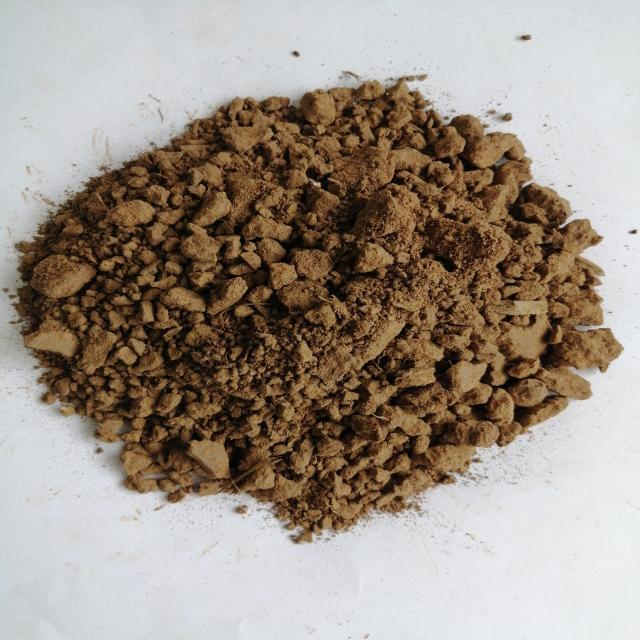soil: (87, 174, 558, 448)
